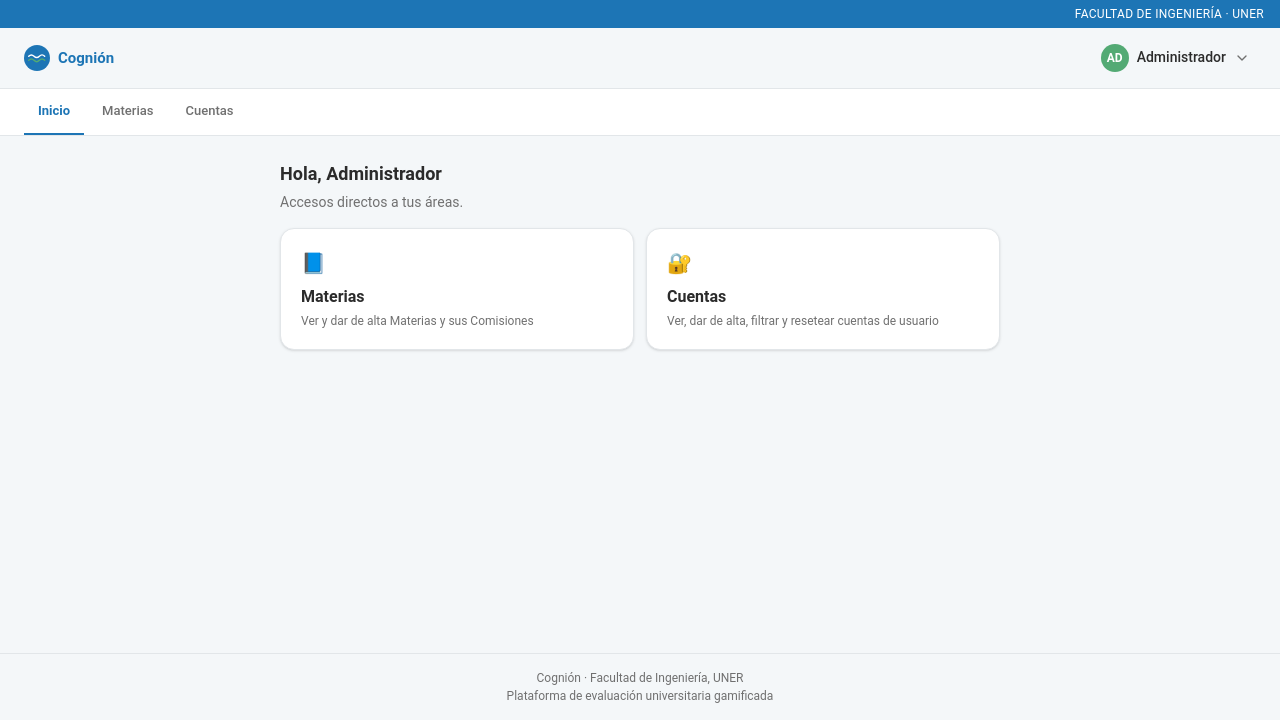
Test: router (integración) › Inicio (US-ADJ-28) › Administrador navega de la Home a Cuentas por clic en la card
Check: the heading "Hola, Administrador" is shown, box top-left (280, 162), bottom-right (442, 184)
"Cuentas" aparece dos veces: en el ítem del AppNav y en la card de la Home.
Click the text "Cuentas".
click(697, 296)  # box top-left (667, 286), bottom-right (726, 306)
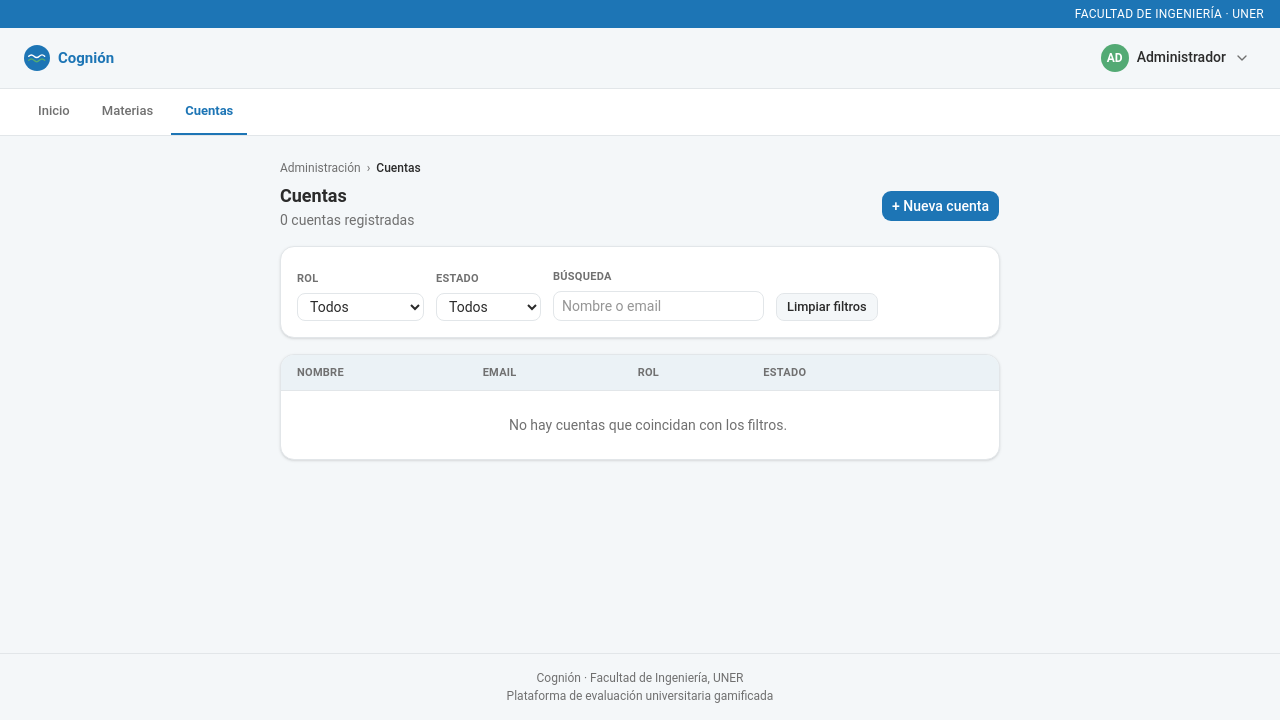
Check: the heading "Cuentas" is shown, box top-left (280, 184), bottom-right (347, 206)
